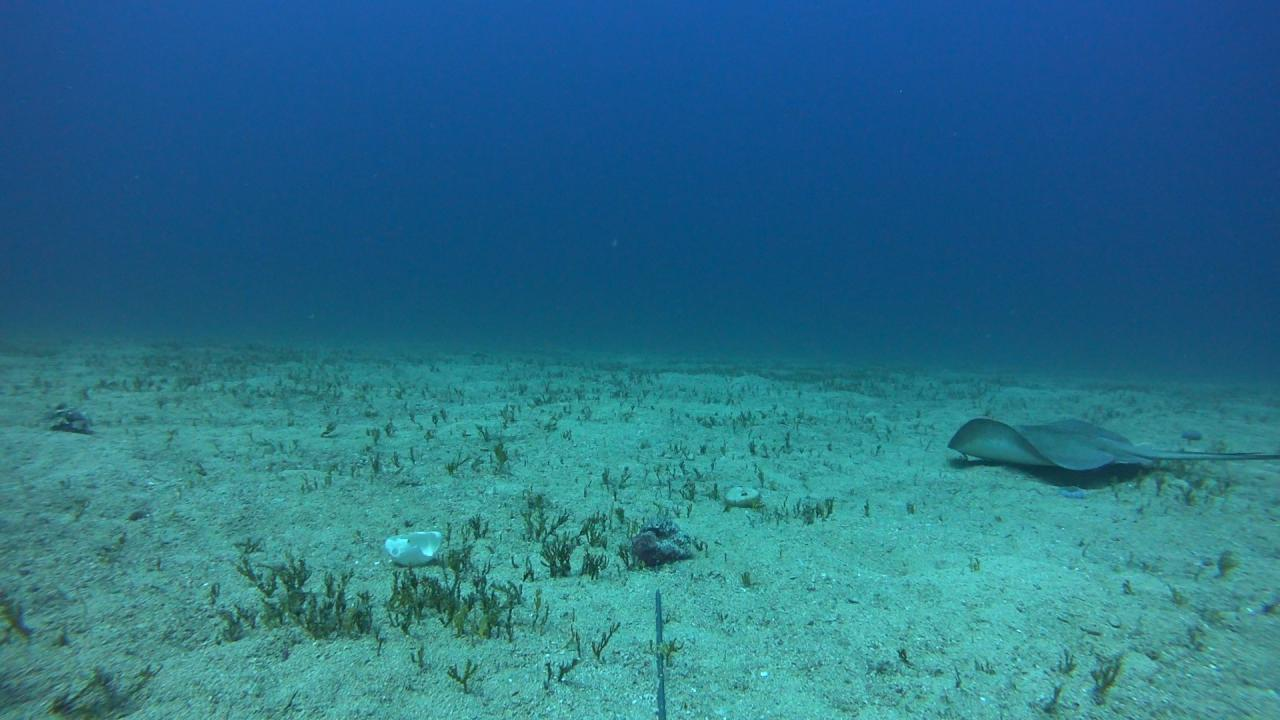dasyatis: (945, 416, 1279, 472)
